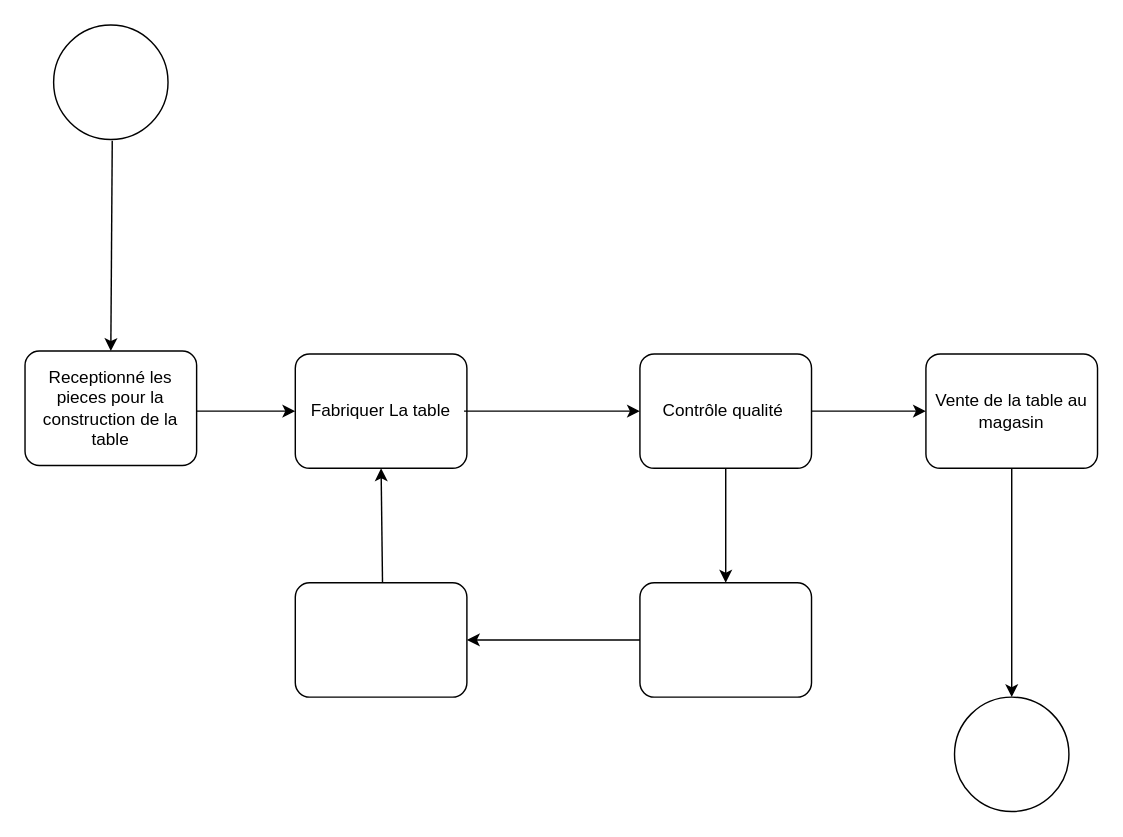
This 1123x837 diagram has some shape labels left out. The box of each missing label's shape, as (x1, y1, x2, y2) in pixels:
Démonter la table: (294, 581, 467, 697)
Si contrôle qualité a échoué alors elle est démonté: (638, 581, 812, 697)
